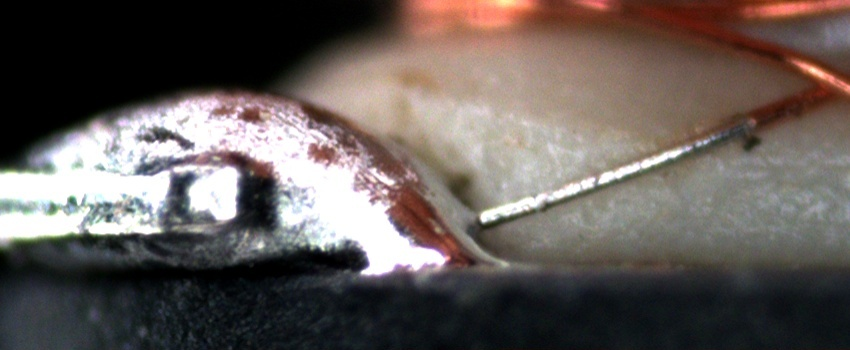DL: (684, 139, 850, 178)
TS: (475, 117, 752, 226)
